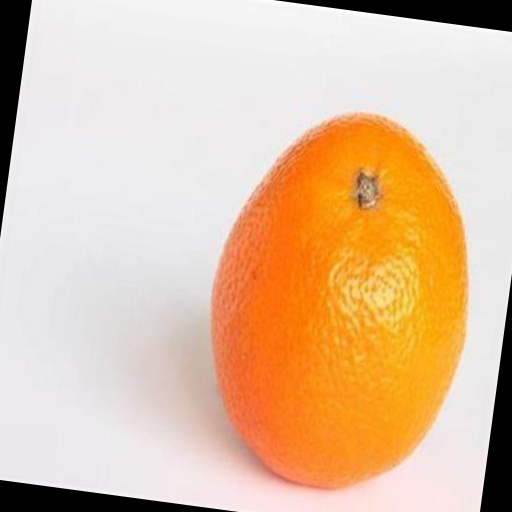fruit: (70, 121, 354, 512)
